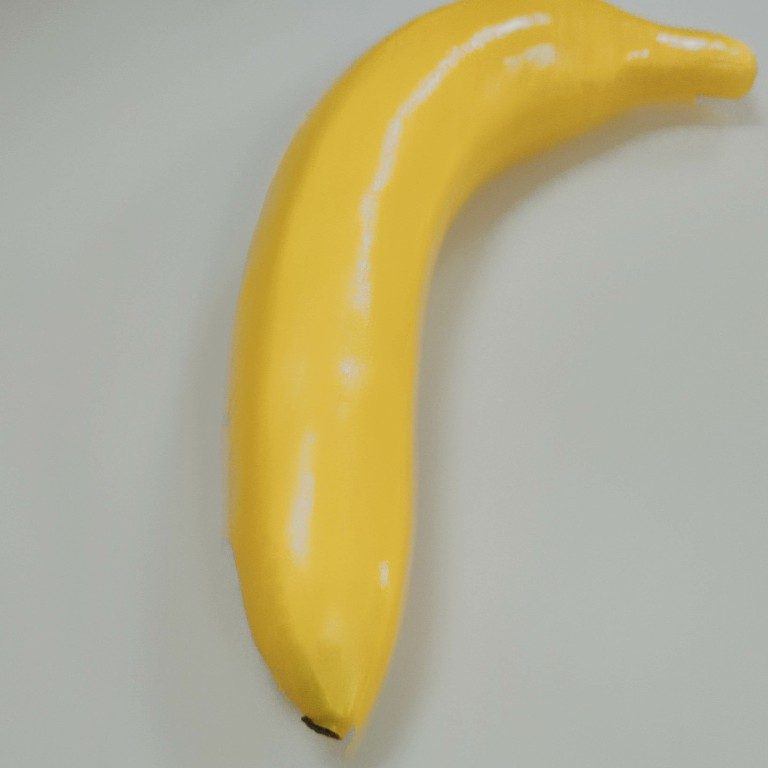fruit_banana: (218, 1, 760, 747)
